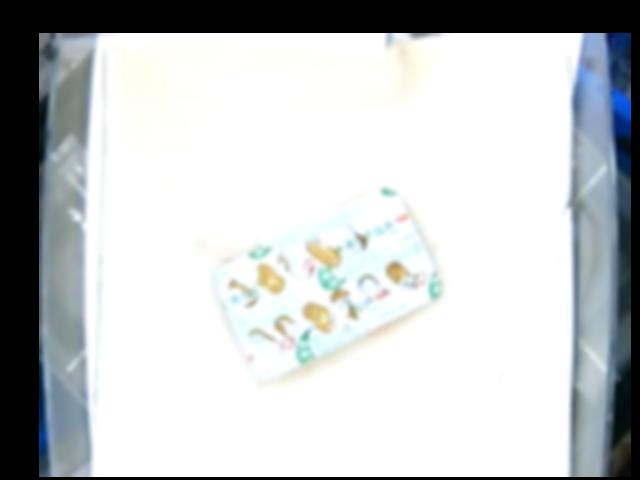Medicine: (215, 183, 443, 378)
